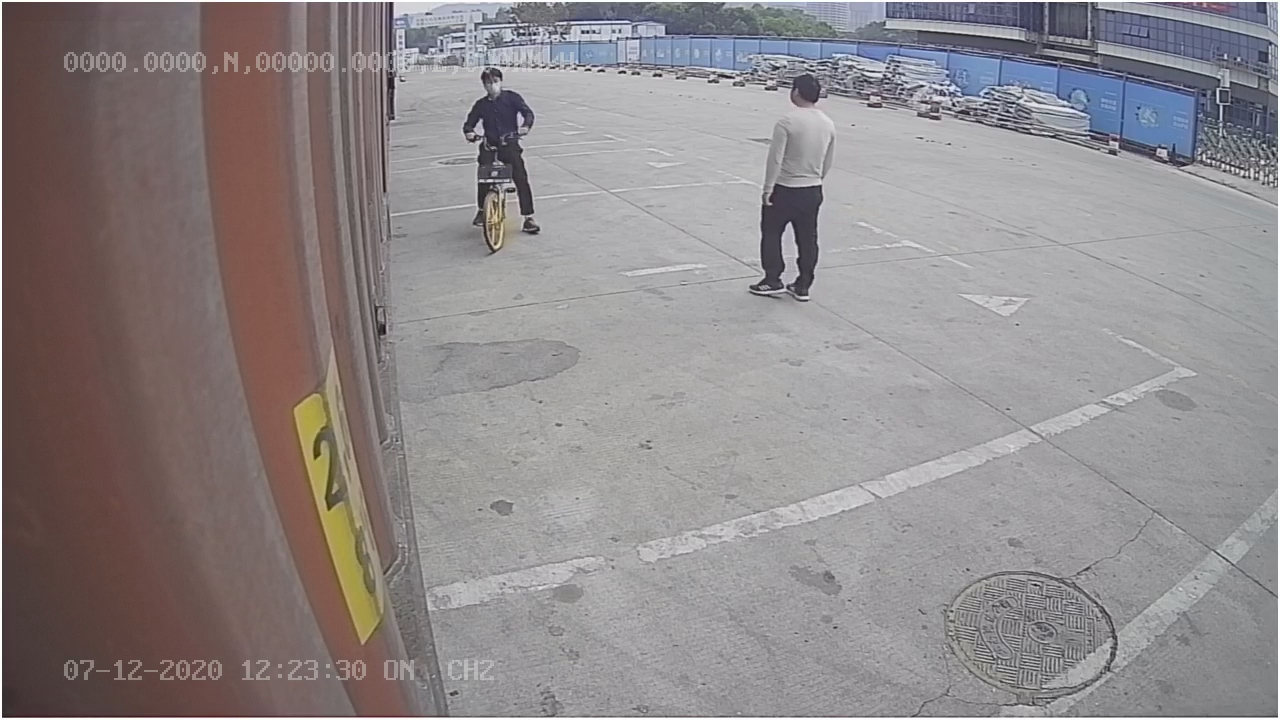person: (740, 69, 842, 301)
